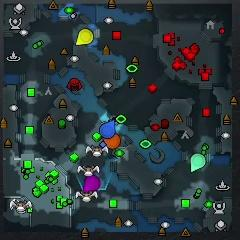p1: (99, 119, 116, 139)
p2: (191, 154, 205, 172)
p3: (83, 176, 99, 193)
p4: (75, 29, 93, 46)
p5: (104, 134, 120, 148)
